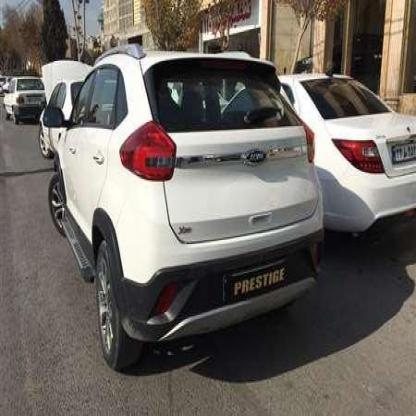Car: (46, 53, 318, 359), (261, 36, 416, 242), (2, 76, 50, 120)
